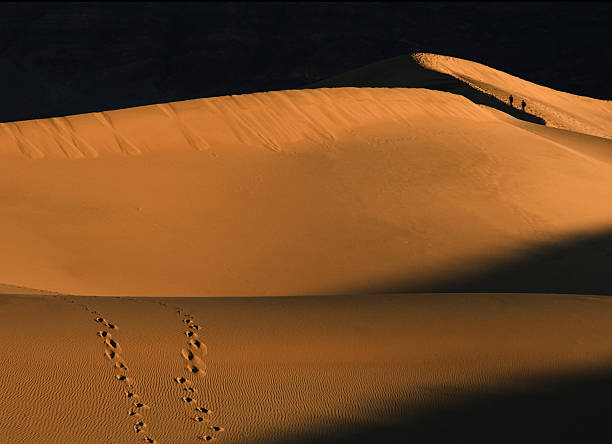animal_foot_print: (92, 312, 148, 434), (176, 307, 206, 375), (188, 338, 206, 355), (104, 336, 119, 351), (115, 374, 132, 385), (186, 363, 203, 374), (181, 348, 195, 360), (134, 420, 146, 432), (133, 401, 148, 410), (114, 361, 127, 370), (128, 408, 141, 417), (124, 390, 138, 398), (105, 349, 116, 359), (182, 396, 196, 403), (195, 407, 211, 413), (174, 377, 190, 383), (97, 330, 109, 337), (185, 330, 197, 337), (144, 436, 156, 443), (198, 435, 214, 440), (209, 426, 224, 431), (193, 416, 207, 421), (183, 387, 197, 392)
